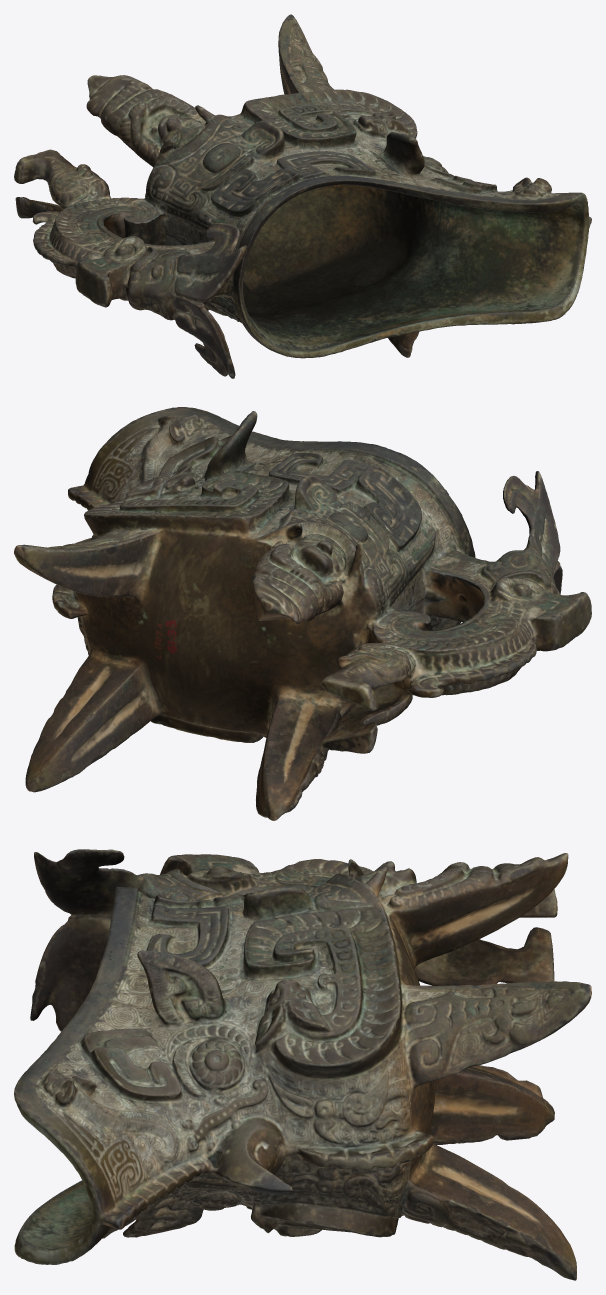
File: ewer-base-200k-4096-high.glb
3 renders of one model, top to bottom at view 1: azimuth 30°, elevation 25°; view 2: azimuth 150°, elevation 25°; view 3: azimuth 270°, elevation 25°, orthographic. The views are drawn at different scales.
Bounding box in the file's own units: 0.2866 × 0.1288 × 0.22.
Materials: 1 (1 with a texture image).
